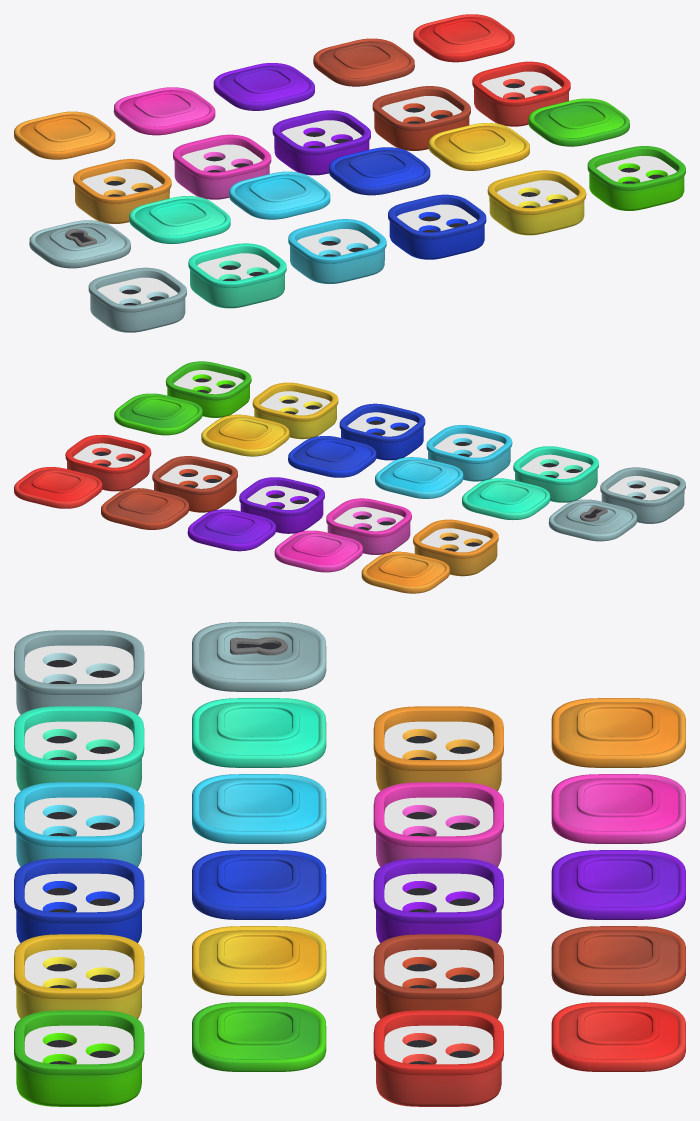
Rendered from pack_tray_lid.fbx.
3 views of the same model, one above another, from view 1: azimuth 30°, elevation 25°; view 2: azimuth 150°, elevation 25°; view 3: azimuth 270°, elevation 25° (orthographic). The views are drawn at different scales.
Parts seen in each view (by area): view 1: obj_tray_yellow, obj_tray_unblock, obj_tray_blue, obj_tray_green, obj_tray_gray, obj_tray__cyan, obj_tray_pink, obj_tray_pur, obj_tray_brown, obj_tray_red, obj_tray_orange, obj_lid_orange (+10 smaller); view 2: obj_tray_orange, obj_tray_unblock, obj_tray_pink, obj_tray_blue, obj_tray_pur, obj_tray_yellow, obj_tray_red, obj_tray__cyan, obj_tray_brown, obj_tray_gray, obj_tray_green, obj_lid_green (+10 smaller); view 3: obj_tray_red, obj_tray_green, obj_tray_pur, obj_tray_orange, obj_tray_pink, obj_tray_gray, obj_tray_brown, obj_tray_blue, obj_tray__cyan, obj_tray_unblock, obj_tray_yellow, obj_lid_yellow (+10 smaller).
Boxes of the visible parts, x1,y1,x2,y2 form: obj_tray_yellow: (487, 170, 586, 235); obj_tray_unblock: (88, 267, 186, 332); obj_tray_blue: (388, 194, 486, 259); obj_tray_green: (587, 146, 685, 210); obj_tray_gray: (188, 243, 286, 308); obj_tray__cyan: (288, 219, 386, 283); obj_tray_pink: (173, 134, 271, 199); obj_tray_pur: (272, 110, 370, 175); obj_tray_brown: (372, 86, 470, 150); obj_tray_red: (472, 61, 570, 126); obj_tray_orange: (73, 159, 171, 223); obj_lid_orange: (14, 111, 115, 159); obj_tray_orange: (413, 519, 498, 576); obj_tray_unblock: (600, 467, 685, 523); obj_tray_pink: (326, 498, 411, 554); obj_tray_blue: (339, 403, 425, 460); obj_tray_pur: (239, 477, 324, 533); obj_tray_yellow: (252, 382, 338, 439); obj_tray_red: (65, 434, 151, 491); obj_tray__cyan: (426, 425, 512, 481); obj_tray_brown: (152, 456, 237, 512); obj_tray_gray: (513, 446, 598, 502); obj_tray_green: (165, 361, 251, 417); obj_lid_green: (114, 393, 202, 435); obj_tray_red: (373, 1010, 503, 1106); obj_tray_green: (14, 1010, 144, 1106); obj_tray_pur: (373, 858, 503, 942); obj_tray_orange: (373, 706, 503, 790); obj_tray_pink: (373, 782, 503, 866); obj_tray_gray: (14, 706, 144, 790); obj_tray_brown: (373, 934, 503, 1018); obj_tray_blue: (14, 858, 144, 942); obj_tray__cyan: (14, 782, 144, 866); obj_tray_unblock: (14, 630, 144, 714); obj_tray_yellow: (14, 934, 144, 1019); obj_lid_yellow: (192, 926, 326, 995).
Size of the model in its own units: 17.38 by 1.05 by 11.21.
